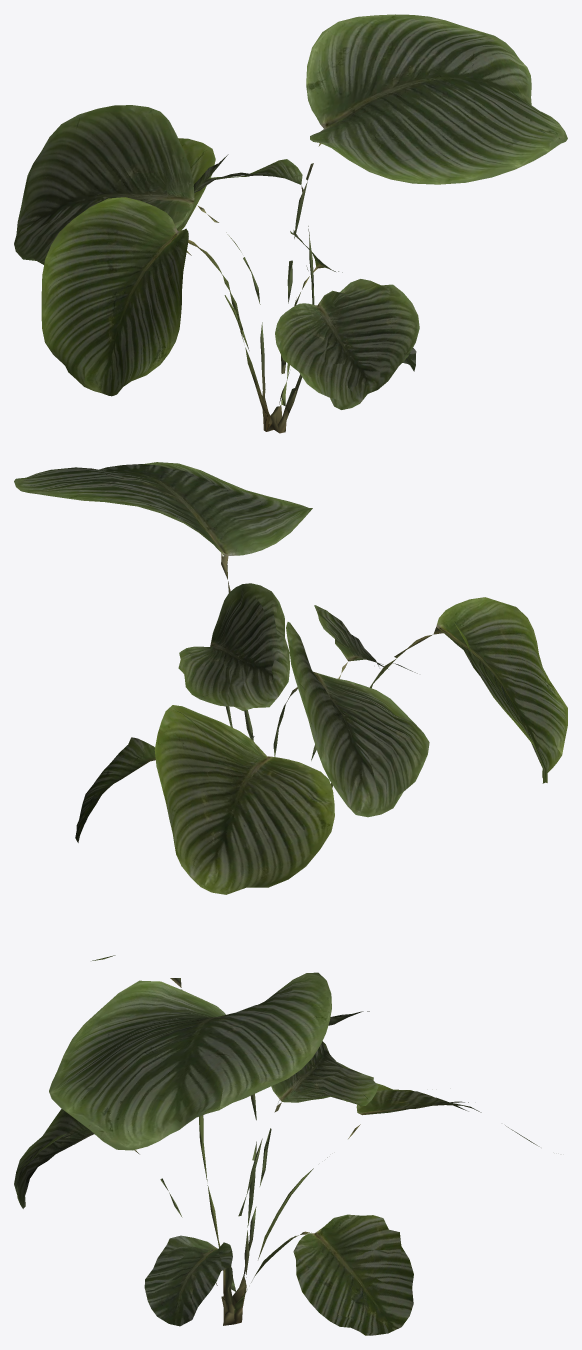
The model's file is calathea_0.glb.
3 renders of one model, top to bottom at view 1: azimuth 30°, elevation 25°; view 2: azimuth 150°, elevation 25°; view 3: azimuth 270°, elevation 25°, orthographic. The views are drawn at different scales.
Visible parts, largest first — view 1: calathea; view 2: calathea; view 3: calathea.
Boxes of the visible parts, bbox=[...] form: calathea: bbox=[14, 14, 567, 433]; calathea: bbox=[14, 462, 567, 894]; calathea: bbox=[14, 955, 539, 1335].
Size of the model in its own units: 0.6006 by 0.419 by 0.5256.
Materials: 1 (1 with a texture image).
